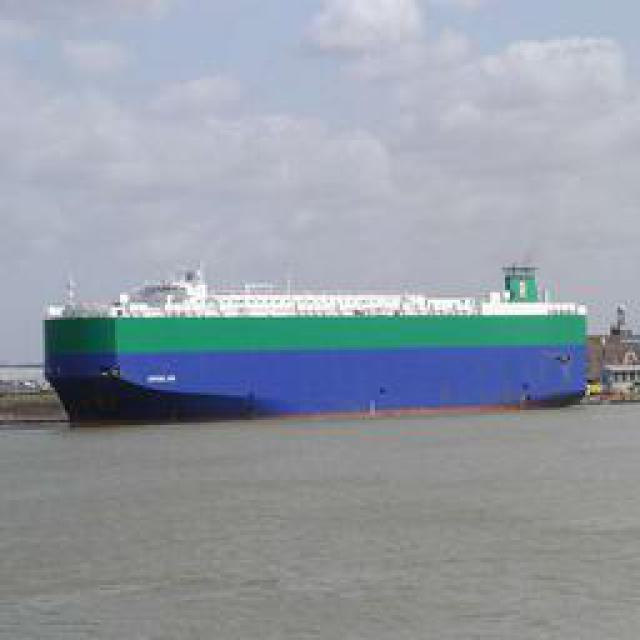Ship: (52, 263, 585, 418)
